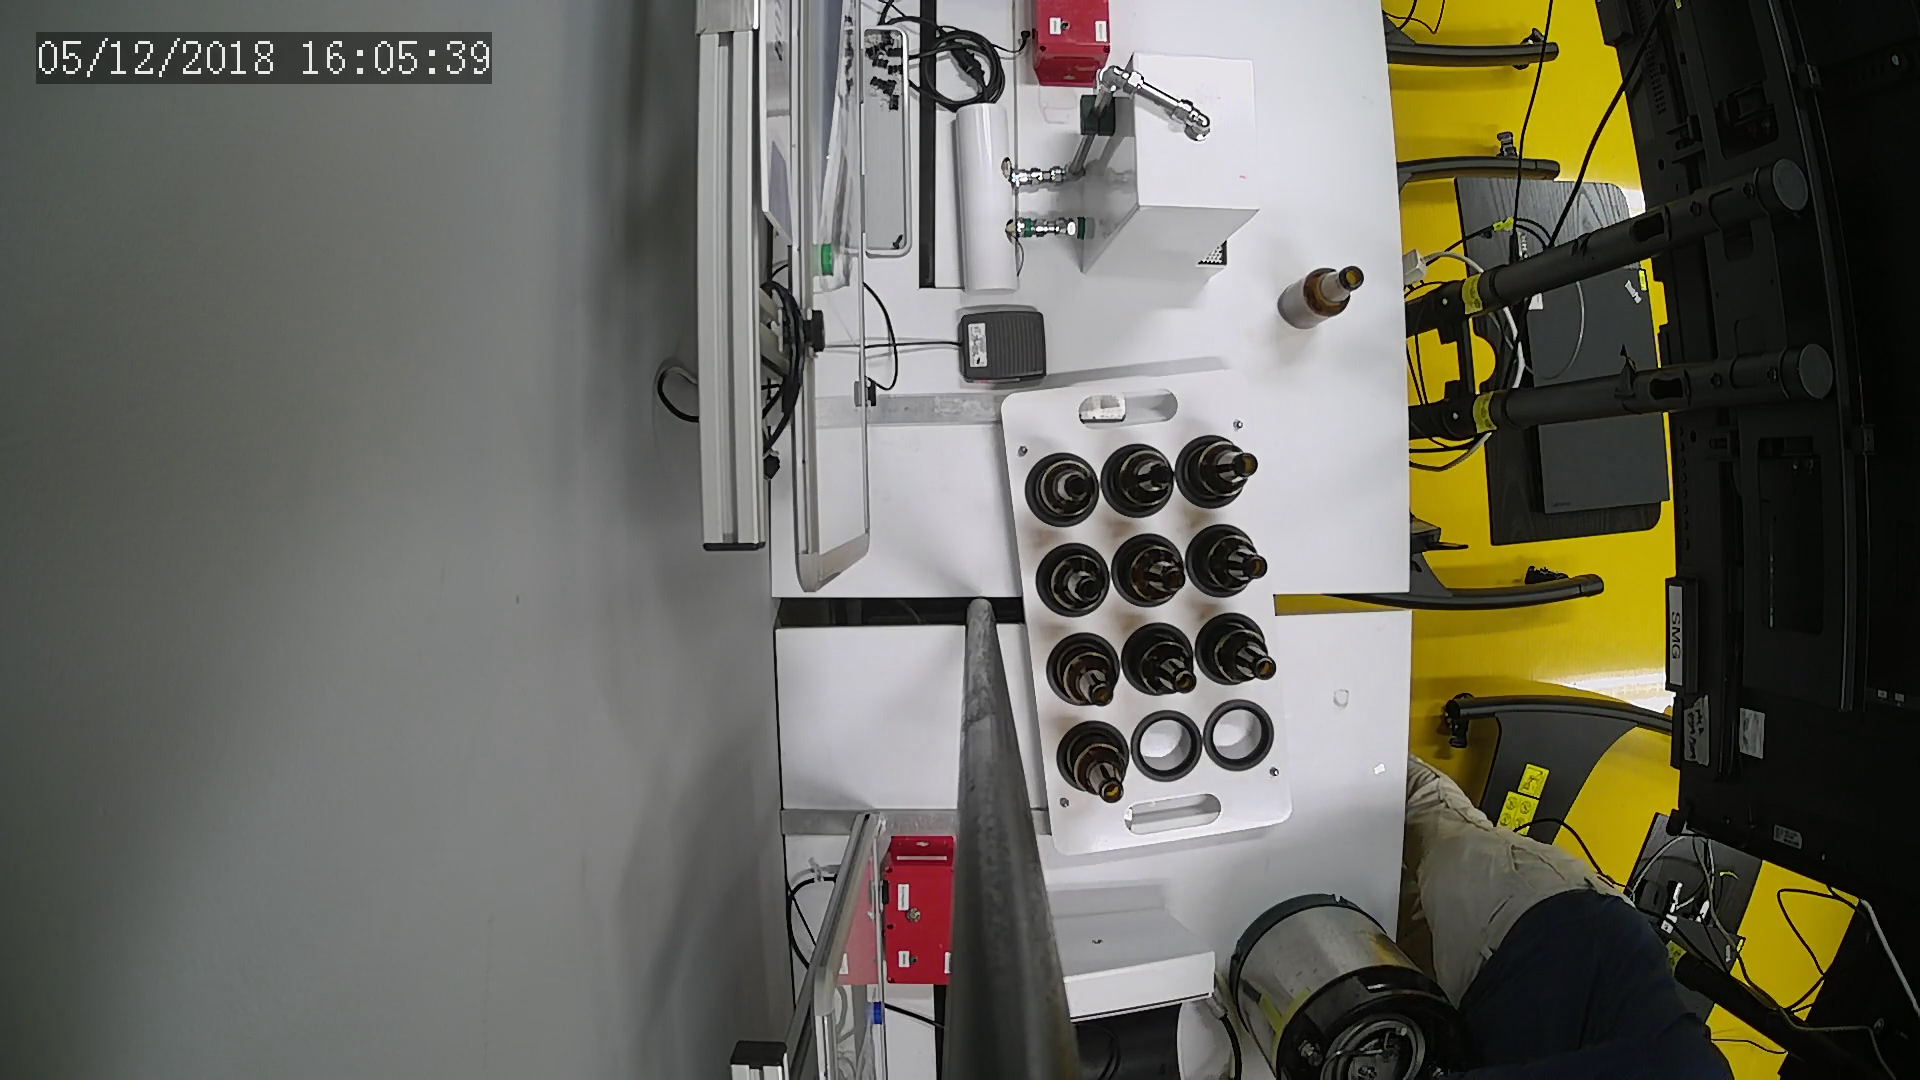filled_bottle: (1118, 615, 1207, 709), (1051, 713, 1137, 807), (1183, 522, 1273, 607), (1170, 426, 1261, 509), (1193, 603, 1274, 691), (1022, 448, 1098, 541), (1031, 541, 1114, 620), (1040, 630, 1126, 707), (1104, 438, 1178, 522), (1106, 530, 1182, 609)
trolley: (996, 361, 1303, 853)
unfilled_bottle: (1273, 262, 1370, 336)
